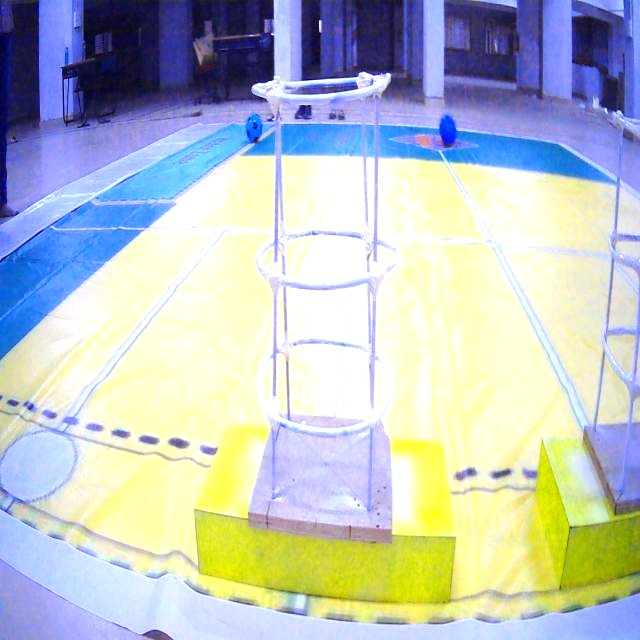silo: (244, 55, 408, 548)
